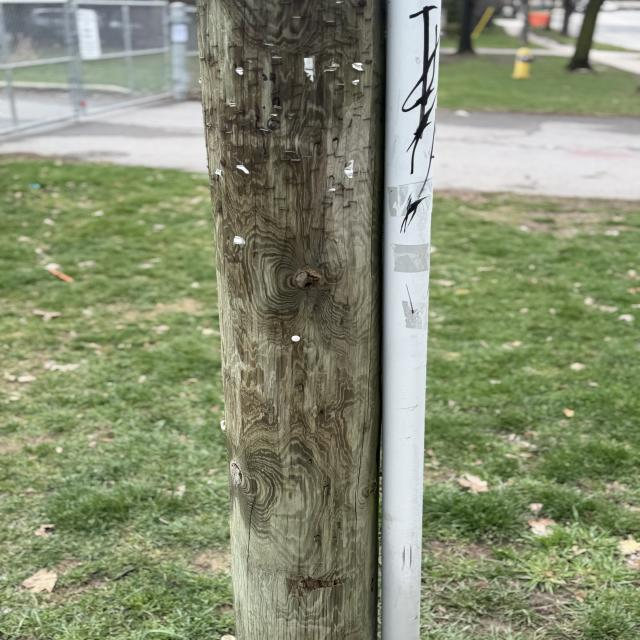Electrical Pole: (195, 4, 387, 640)
